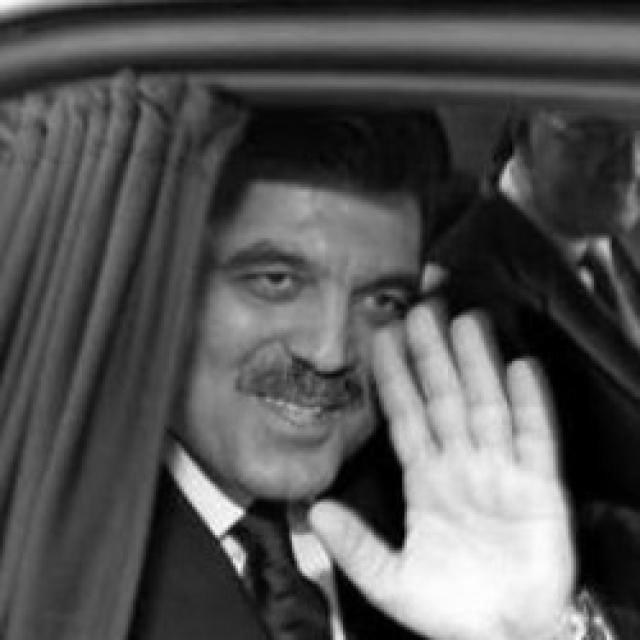real: (166, 90, 432, 503), (215, 246, 415, 327)
